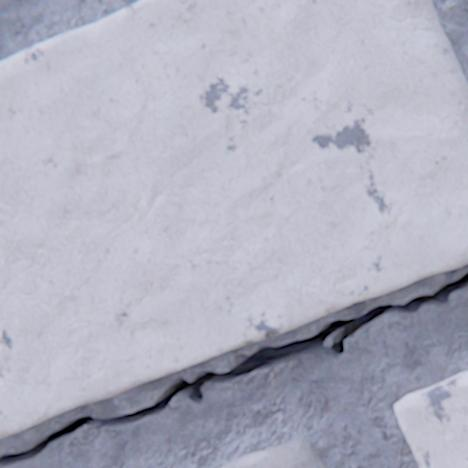brick: (0, 0, 467, 437), (394, 371, 467, 467), (221, 435, 323, 467)
crack: (0, 270, 467, 467)
